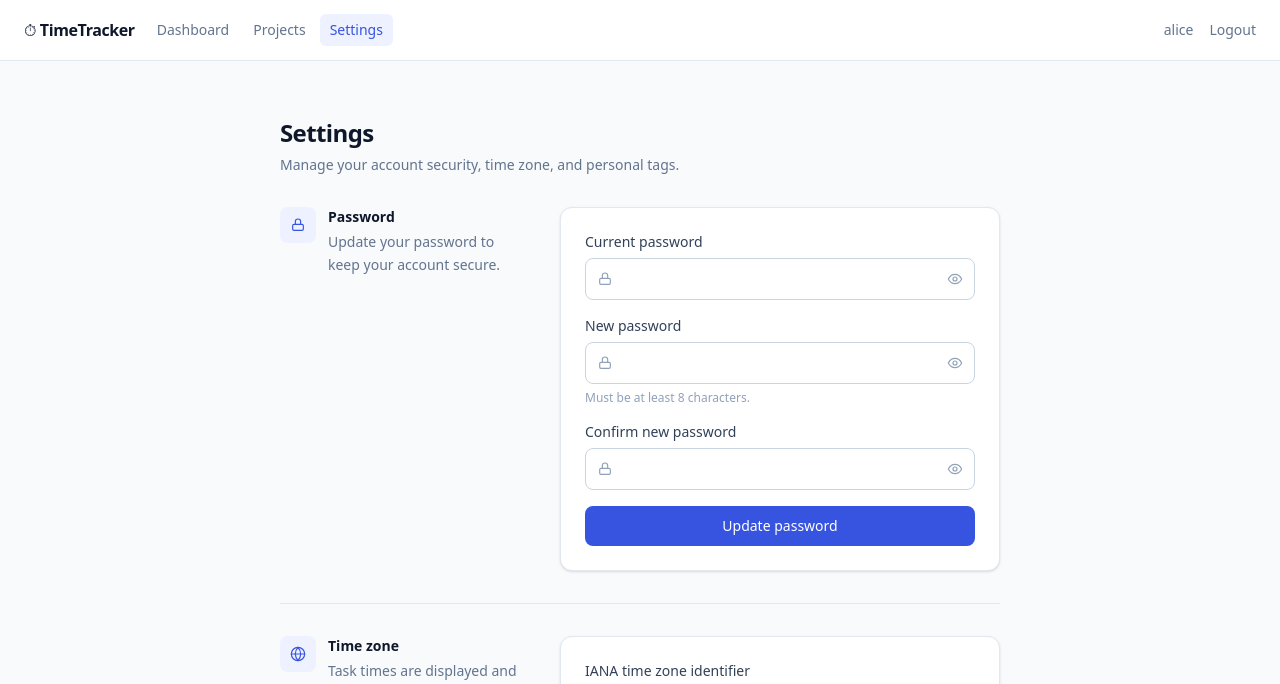
SettingsPage › shows "An error occurred" for non-Error thrown value
Type "oldpass1" into the password field with test id "current-password-input" at (780, 279), box [585,258,975,300]
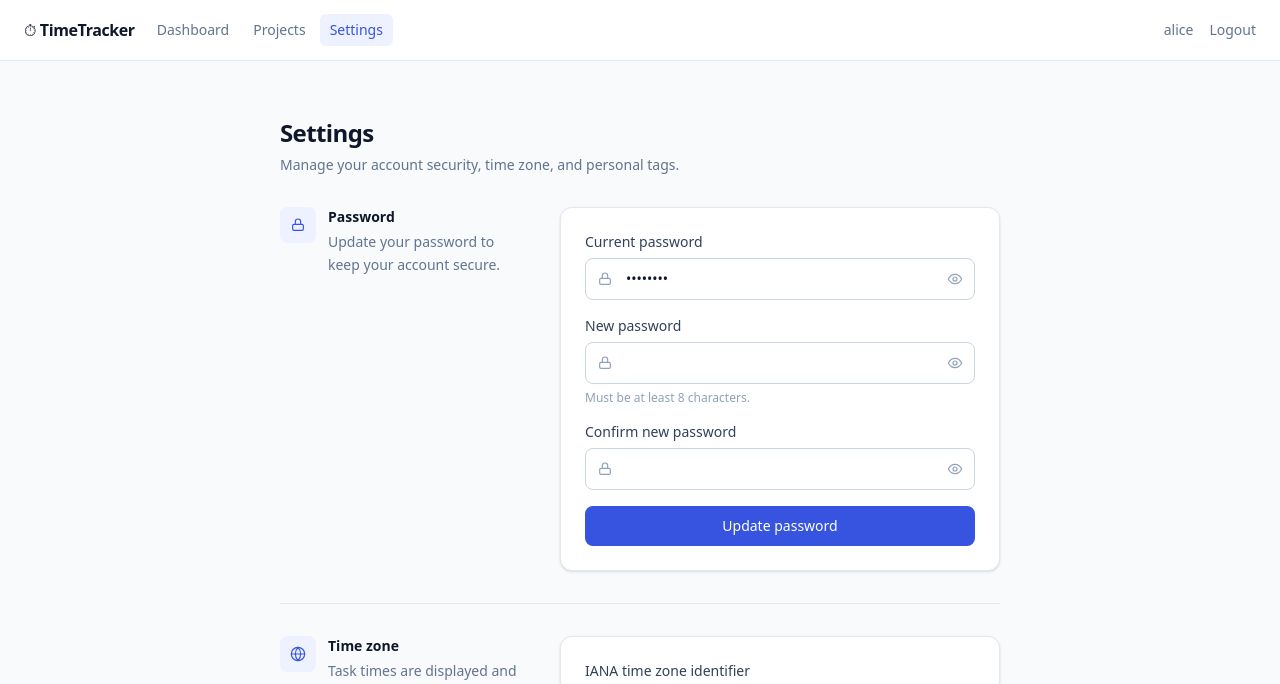
Type "newpass1" into the password field with test id "new-password-input" at (780, 363), box [585,342,975,384]
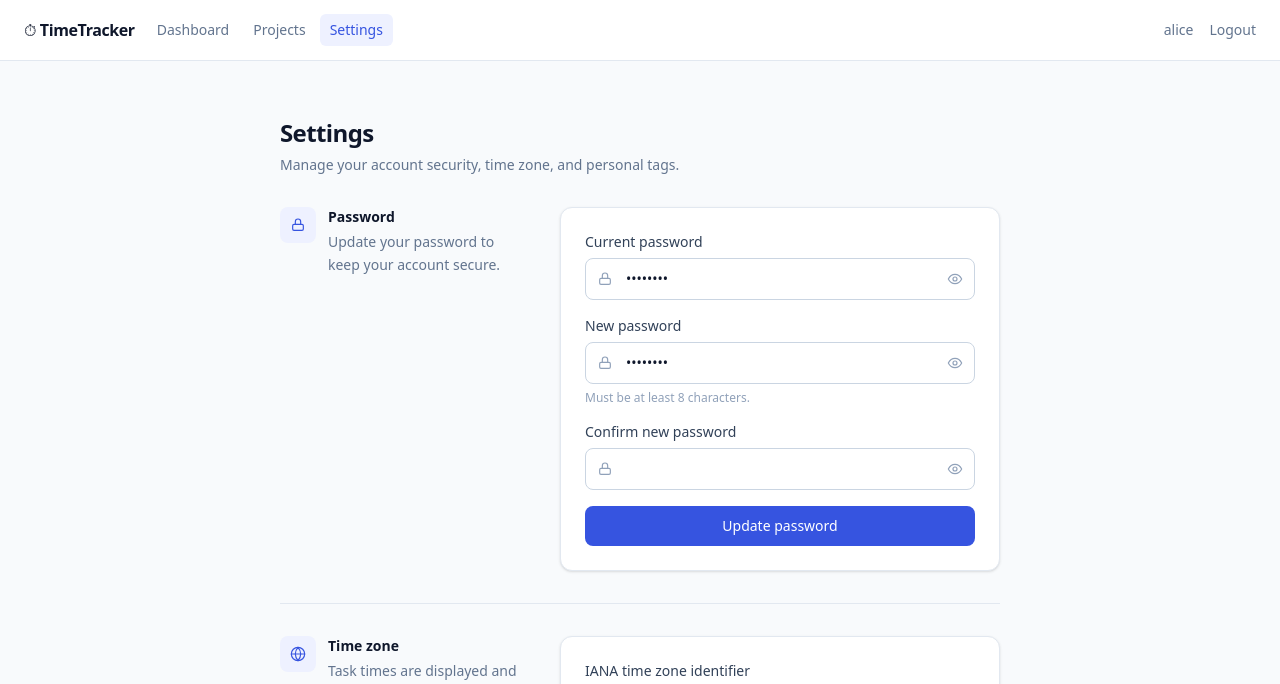
Type "newpass1" into the password field with test id "confirm-password-input" at (780, 469), box [585,448,975,490]
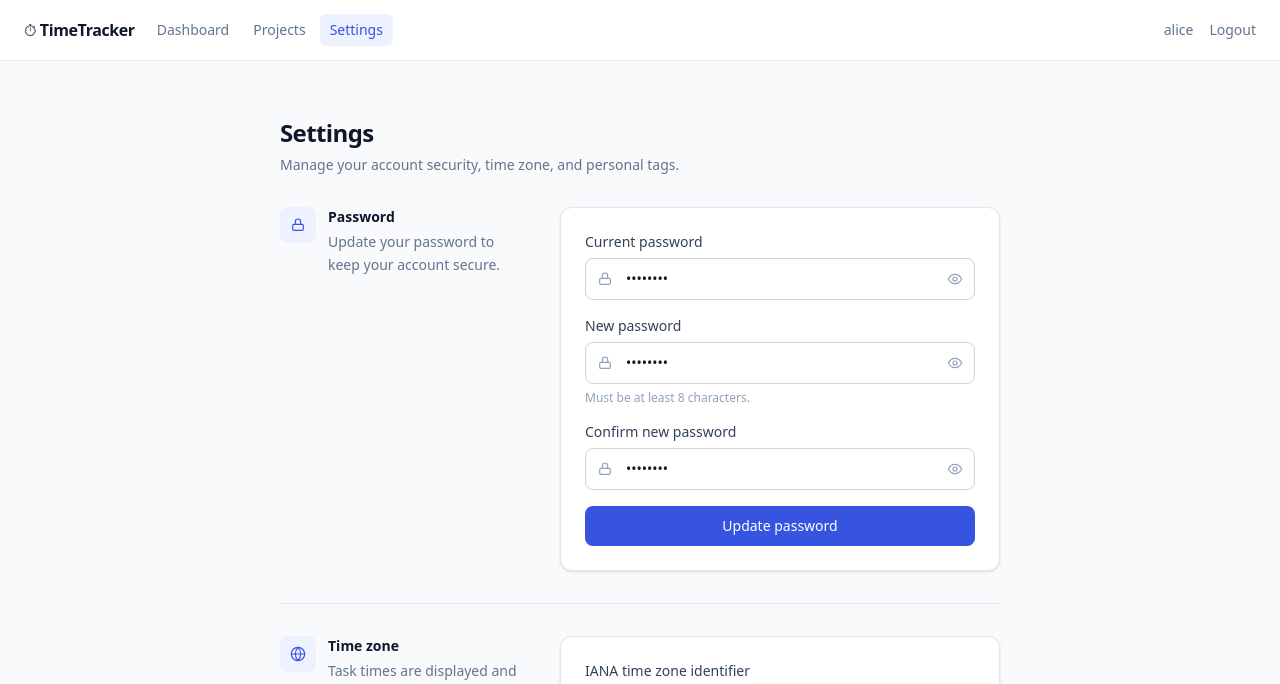
Submit the form with test id "change-password-form", box [585,232,975,546]
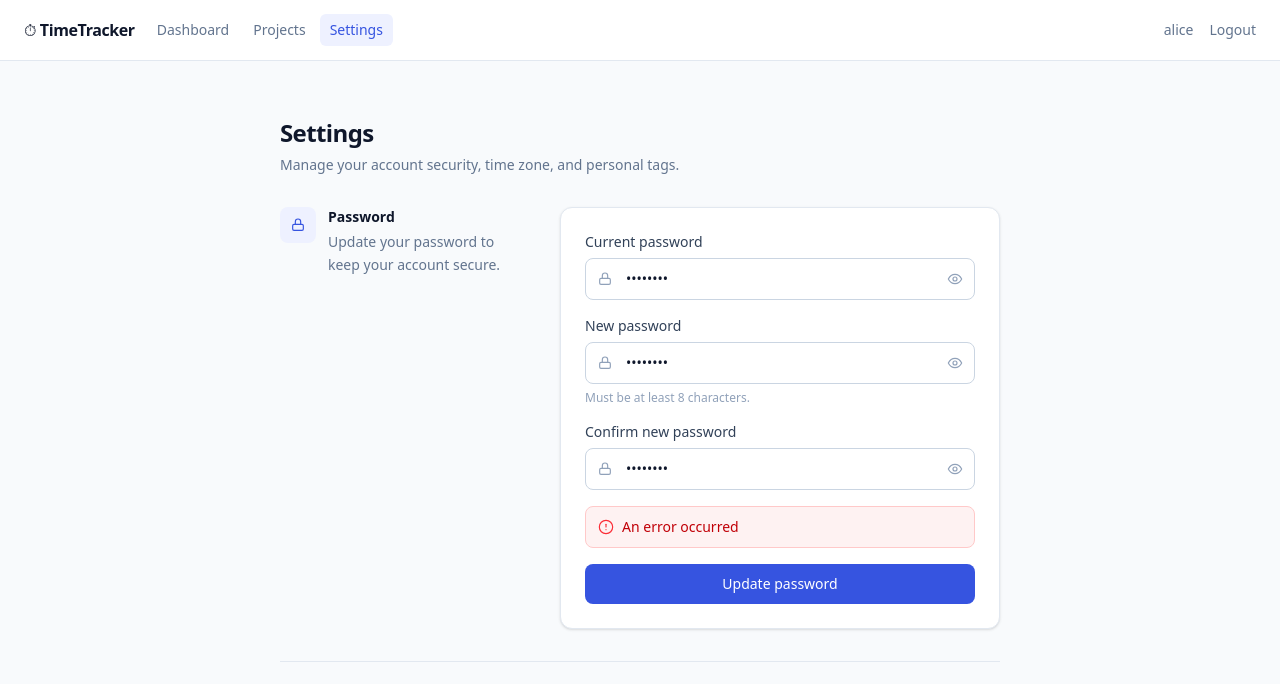
Result: the text "An error occurred" is shown at [622,517,739,537]
Result: the text with test id "settings-error" reads "An error occurred" at [622,517,739,536]
